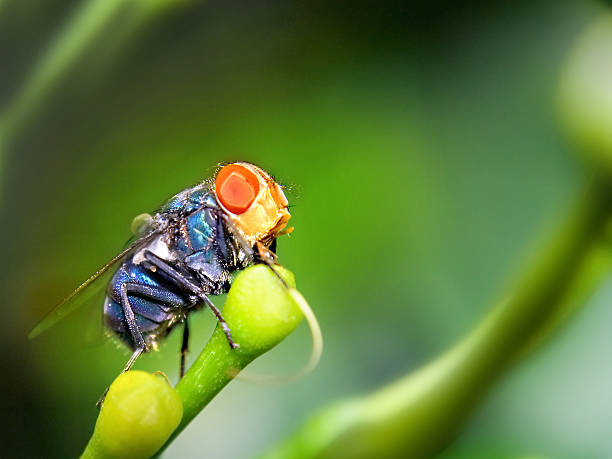Fruit fly: (70, 150, 289, 359)
